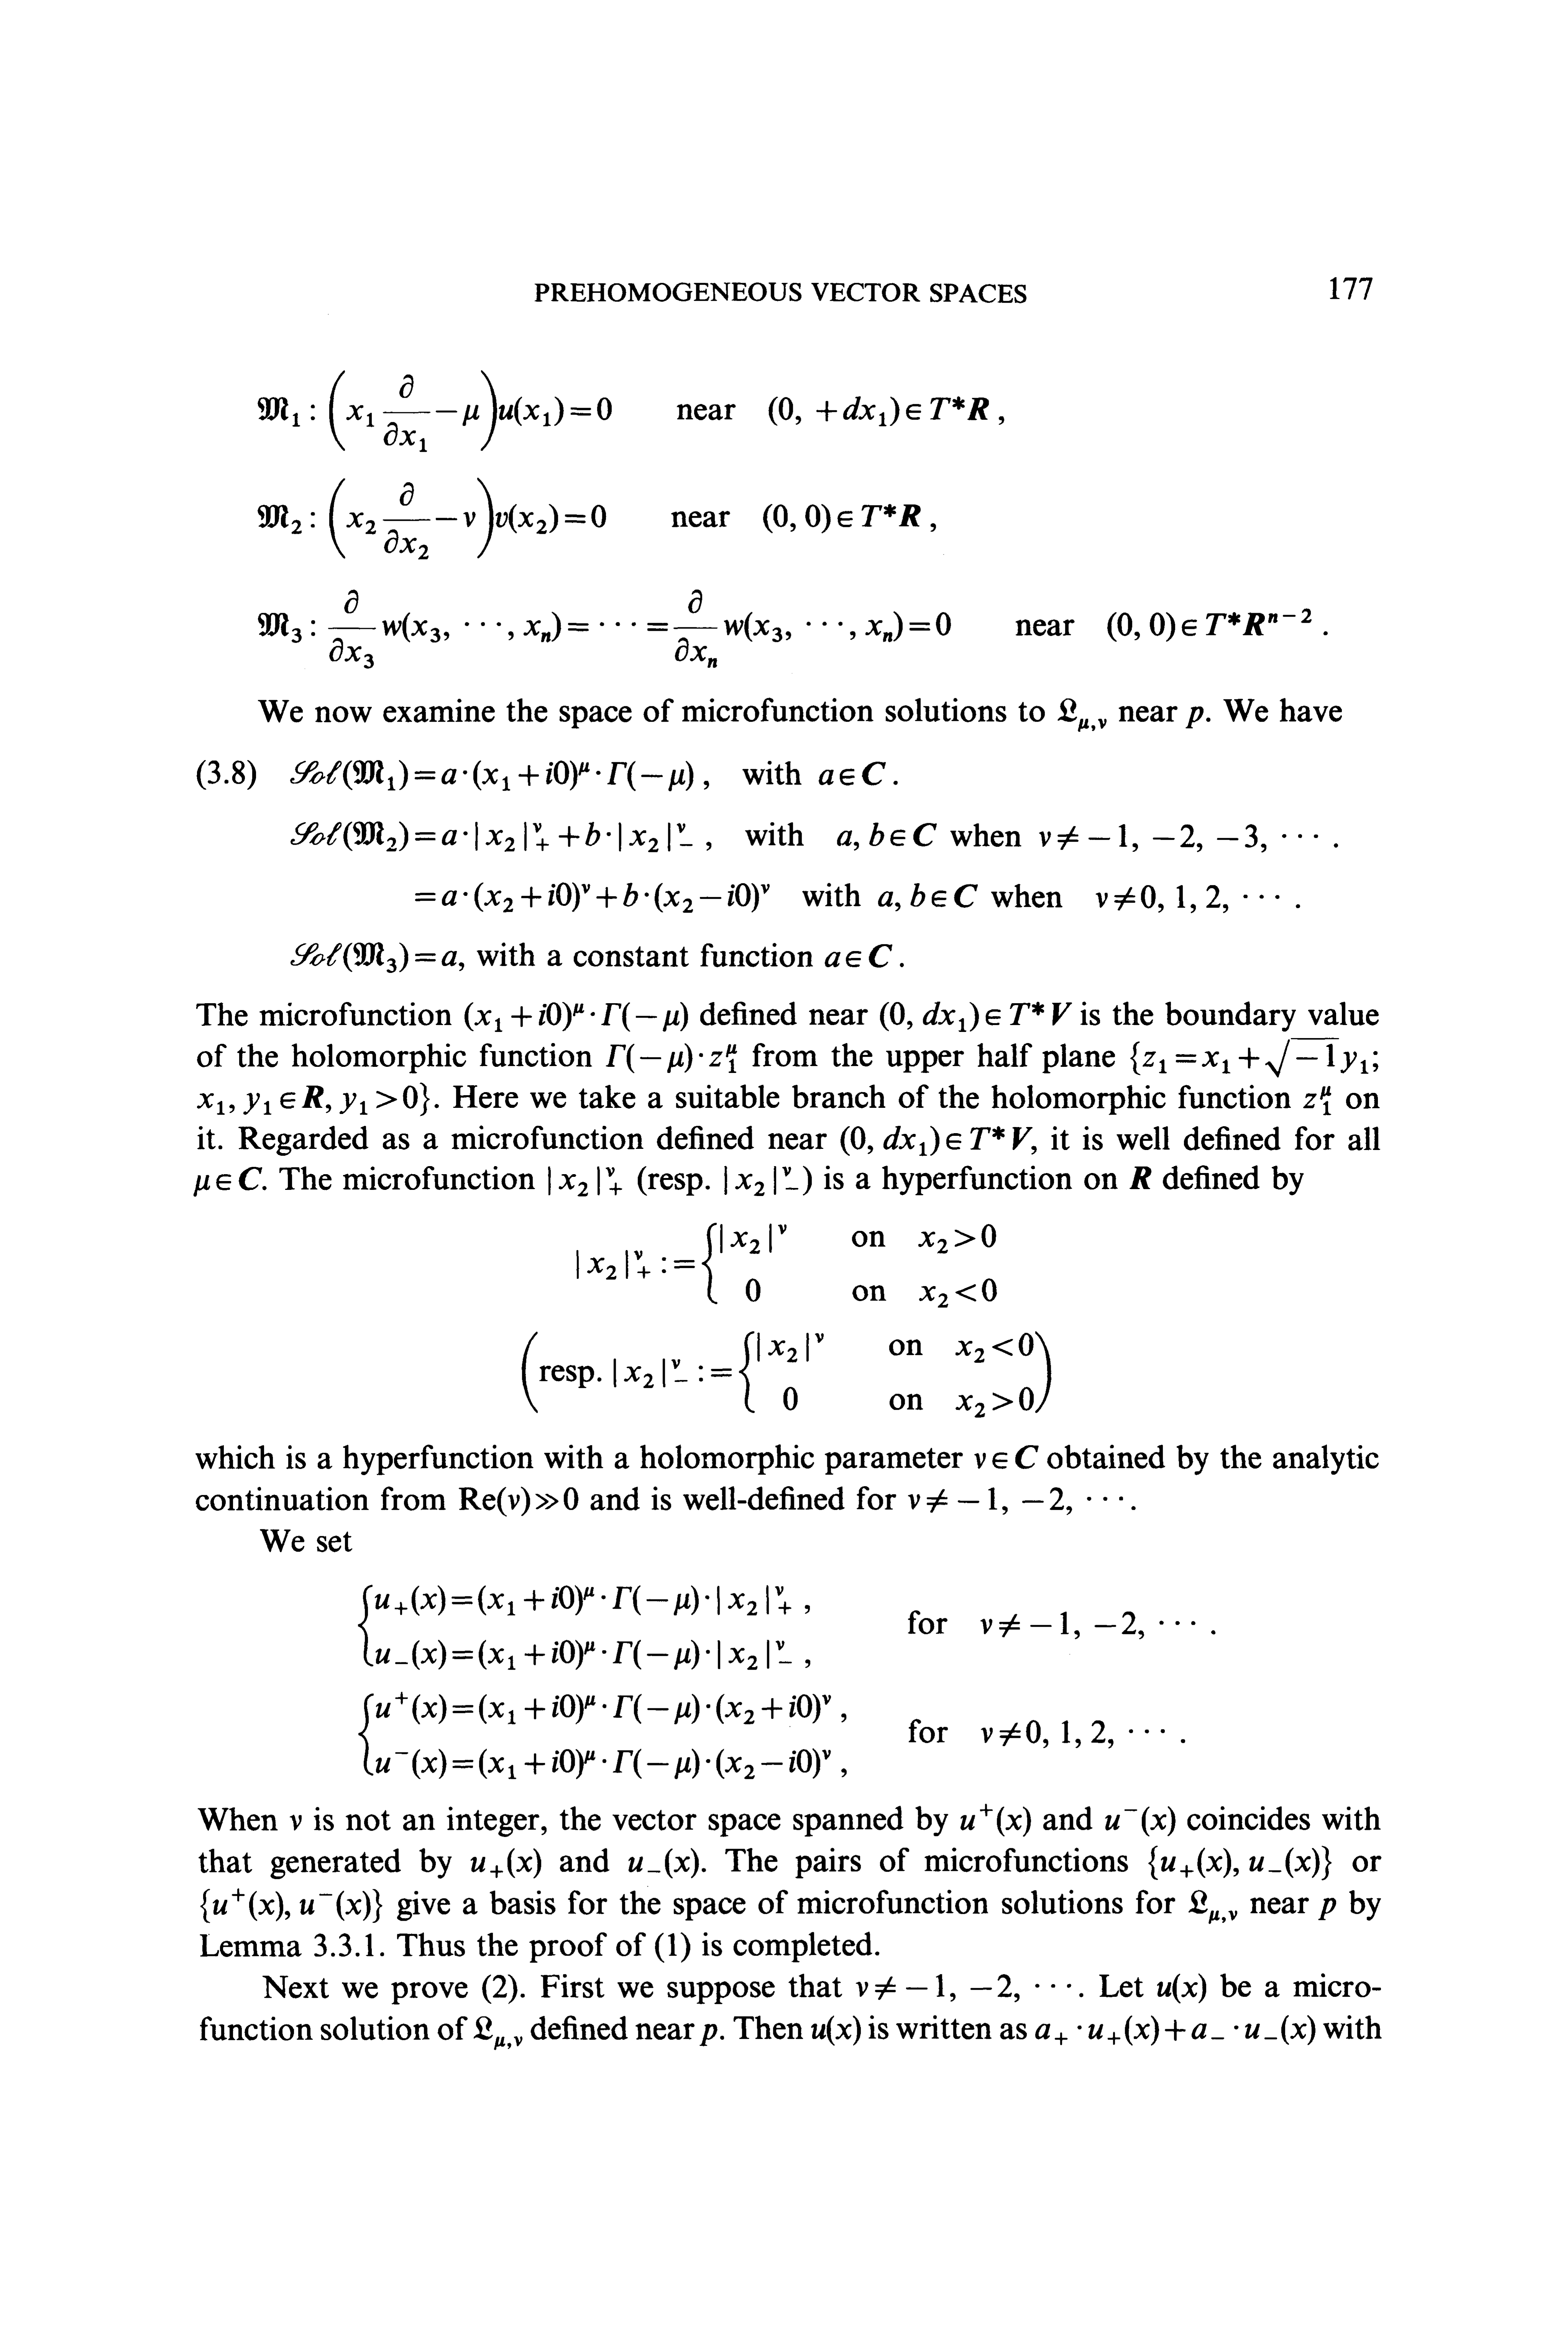maths: (257, 590, 950, 669), (614, 1332, 1052, 1418), (576, 1224, 997, 1308), (257, 369, 611, 452), (257, 478, 605, 558), (290, 760, 693, 791), (290, 821, 691, 852), (415, 882, 768, 912), (1130, 1040, 1377, 1076), (1036, 2015, 1314, 2044), (198, 1082, 429, 1117), (1039, 824, 1318, 852), (768, 396, 989, 425), (1108, 609, 1311, 641), (201, 1889, 381, 1924), (464, 1003, 688, 1031), (1148, 1847, 1332, 1880), (840, 1125, 1036, 1155), (880, 1001, 1071, 1031), (908, 1488, 1123, 1514), (980, 1612, 1195, 1638), (856, 1974, 1055, 2002), (290, 942, 457, 973), (982, 1721, 1164, 1749), (1095, 886, 1279, 912), (763, 504, 920, 532), (605, 1043, 737, 1073), (458, 1486, 577, 1516), (836, 823, 936, 851), (878, 884, 978, 910), (455, 2016, 521, 2050), (961, 1805, 1031, 1836), (548, 1166, 621, 1196), (724, 1166, 798, 1196), (1104, 1806, 1176, 1836), (471, 1848, 541, 1878), (628, 1848, 698, 1878), (194, 1168, 262, 1196), (824, 943, 892, 968), (1057, 698, 1106, 732), (819, 761, 885, 786), (1188, 1890, 1237, 1924), (1157, 1973, 1206, 2002), (975, 1446, 1038, 1469), (812, 2016, 861, 2044), (682, 2023, 717, 2046), (1304, 1085, 1330, 1115), (1185, 707, 1209, 728), (1130, 1166, 1151, 1189), (1318, 1897, 1335, 1920), (290, 1815, 301, 1831)
